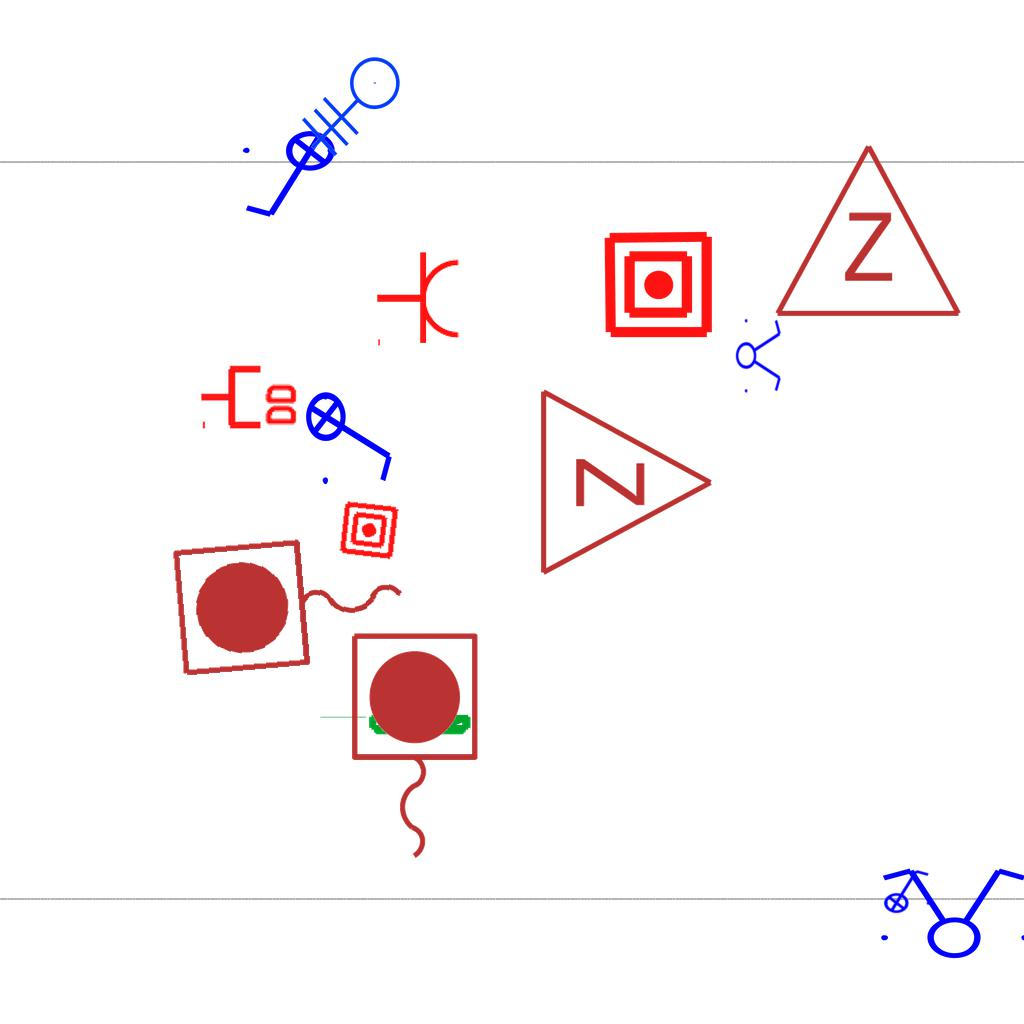Ausschalter_beleuchtet: (237, 129, 349, 225), (304, 378, 400, 490), (877, 866, 933, 914)
Datenanschluss_zweifach: (198, 361, 301, 430)
Elektroanschluss_allgemein_400V_Geraeteanschlussdose_400V: (301, 56, 417, 169)
NAM-Nichtautomatischer_Melder: (602, 228, 715, 341), (337, 498, 401, 562)
Schukosteckdose_einfach: (375, 250, 462, 350)
Serienschalter: (869, 864, 1024, 960), (735, 313, 783, 397)
Sicherheitsleuchte_Wandeinbau: (315, 713, 474, 738)
Zimmersignalleuchte: (768, 131, 964, 331), (526, 382, 726, 578)
Zugtaster: (164, 522, 420, 688), (341, 625, 485, 869)
